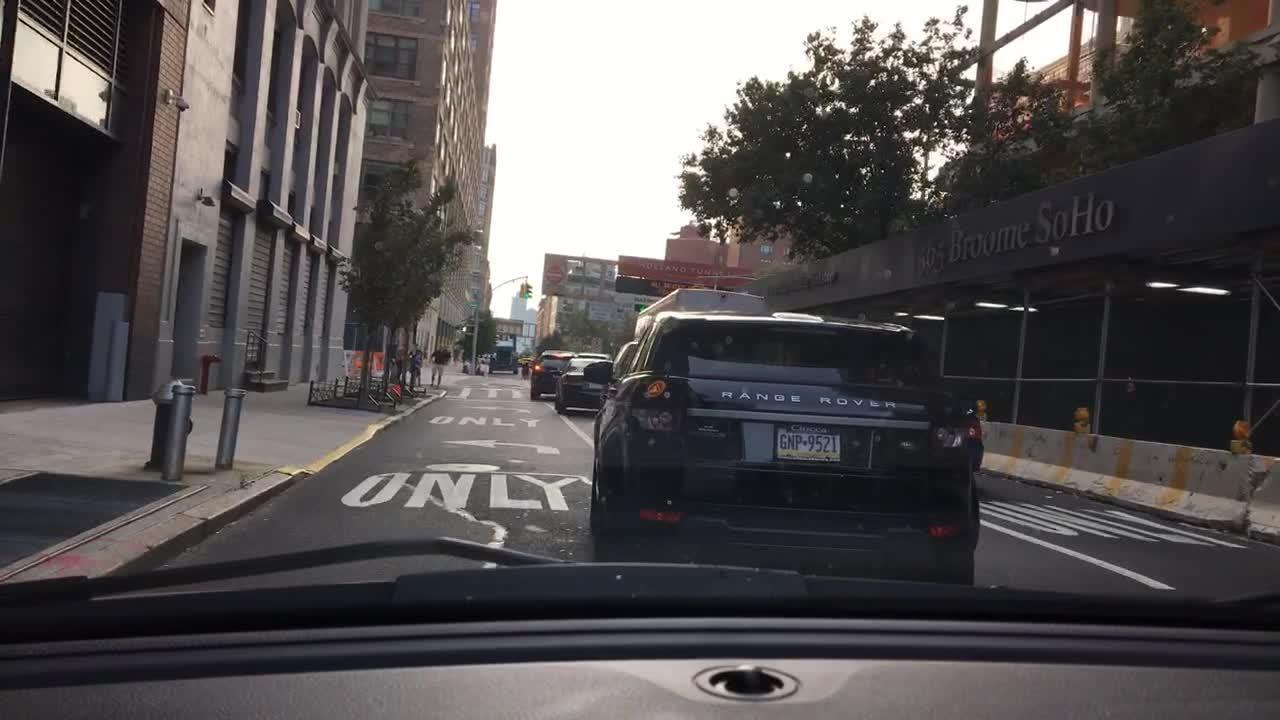range rover: (709, 384, 917, 419)
